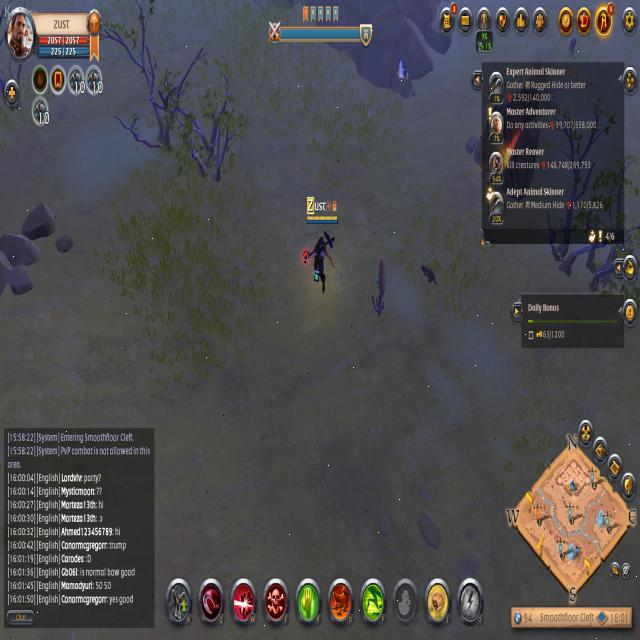deer_alive: (369, 255, 397, 325)
